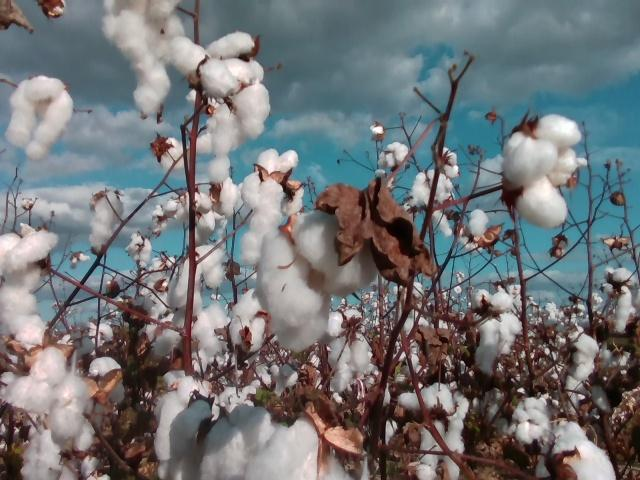cotton_ready: (262, 209, 379, 354), (0, 349, 97, 480), (102, 0, 207, 114), (504, 114, 581, 227), (168, 397, 272, 480), (252, 417, 368, 480), (155, 371, 220, 480), (0, 229, 57, 351), (399, 384, 470, 480), (239, 149, 297, 265), (211, 86, 272, 182), (6, 75, 75, 159), (190, 33, 265, 102), (537, 421, 618, 480), (170, 246, 225, 312), (475, 291, 519, 373), (326, 310, 374, 371), (561, 335, 599, 408), (228, 287, 269, 352), (599, 268, 639, 334), (81, 358, 124, 415), (139, 312, 188, 358), (191, 305, 231, 358), (242, 362, 298, 398), (512, 396, 552, 444), (91, 191, 122, 251), (410, 167, 450, 209), (157, 137, 186, 172), (211, 180, 237, 219)
